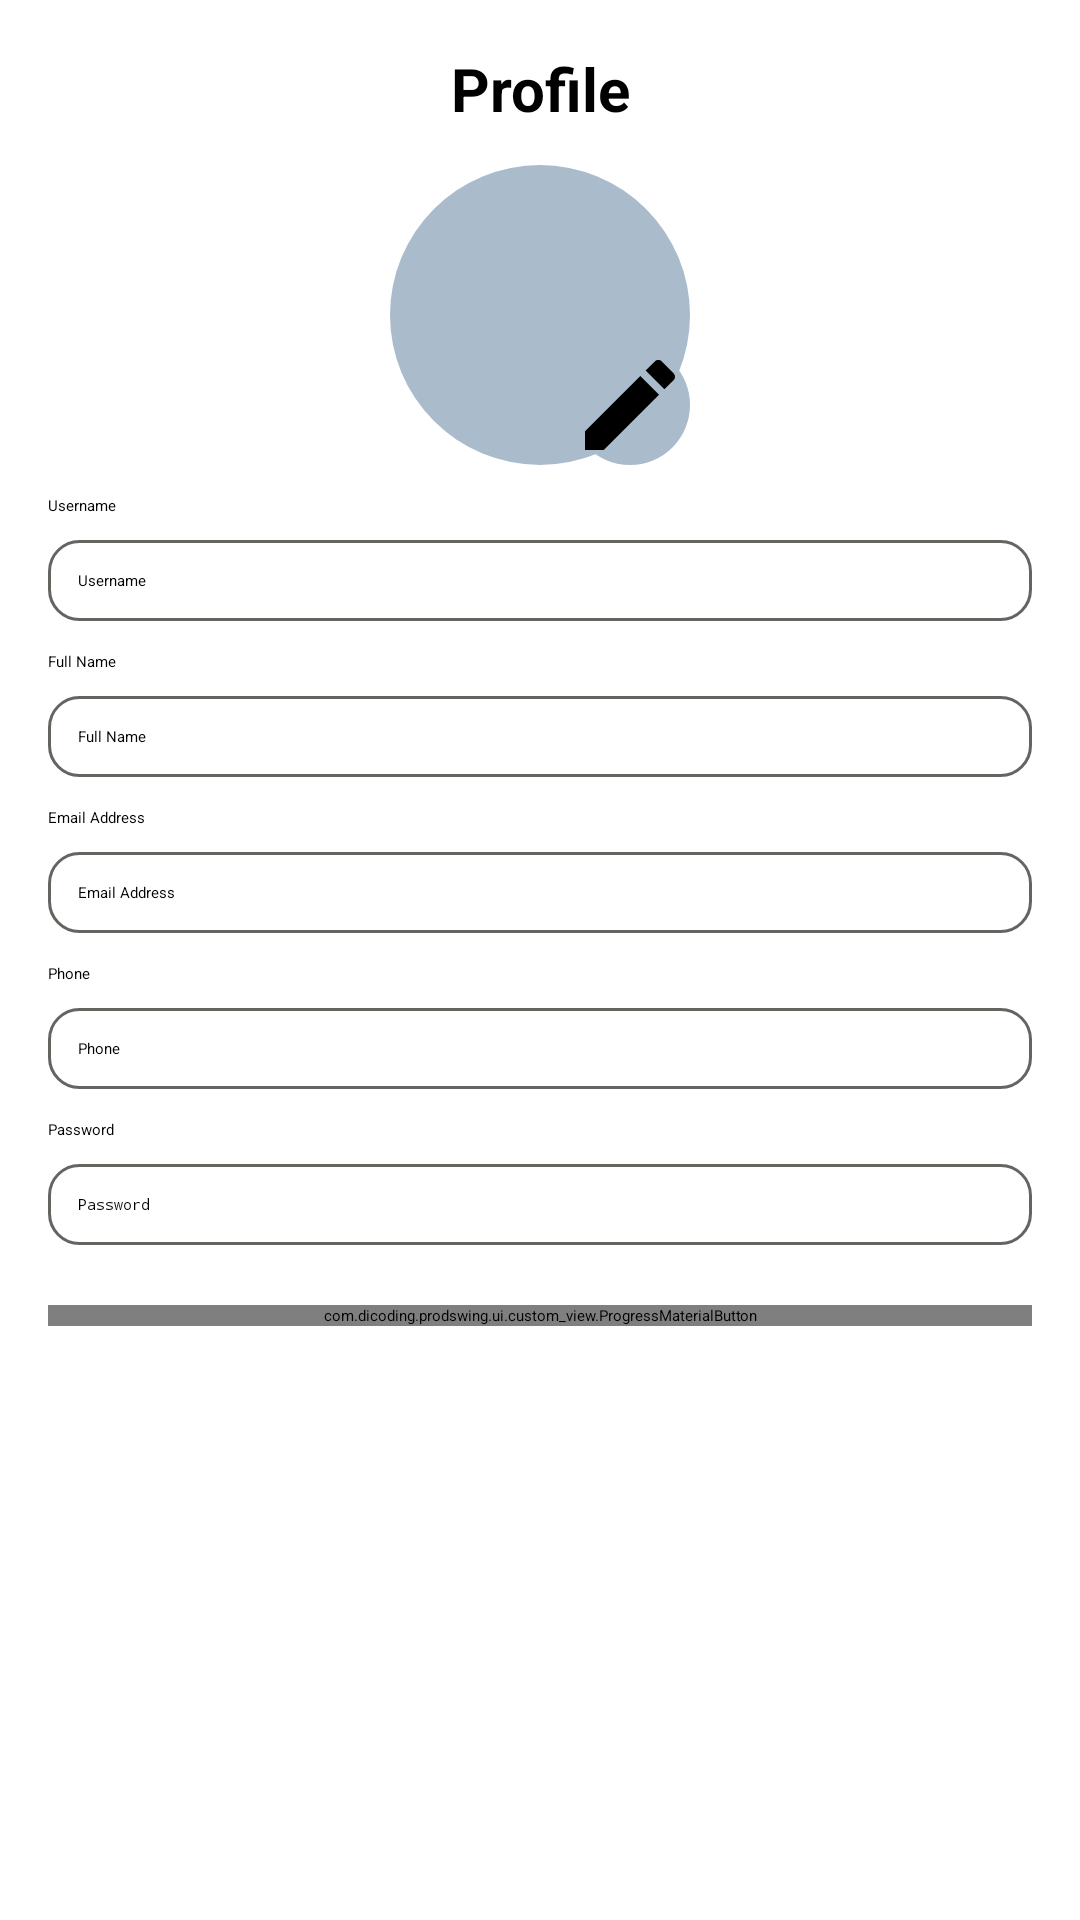

Icon click points for this 1080px x 1920px phone screenshot, format [x,y]:
Edit Profile Photo: [630,405]
